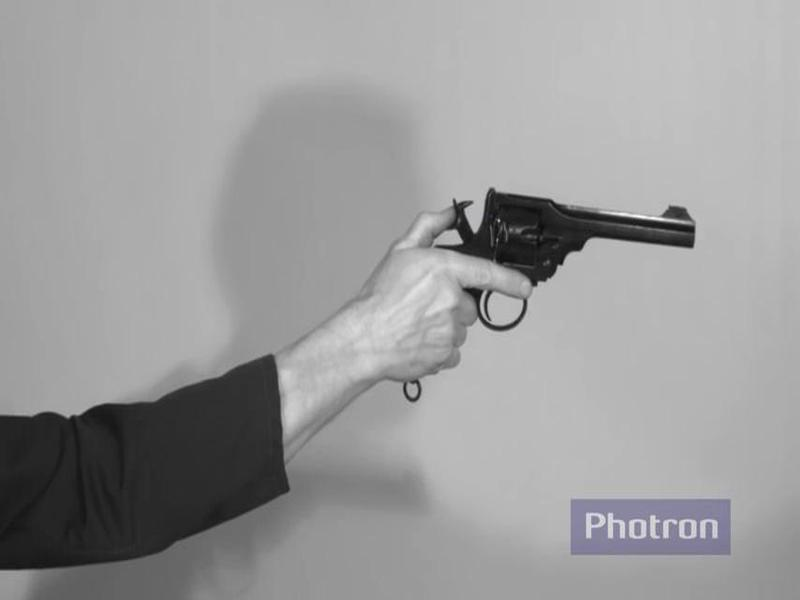Revolver: (390, 161, 714, 408)
